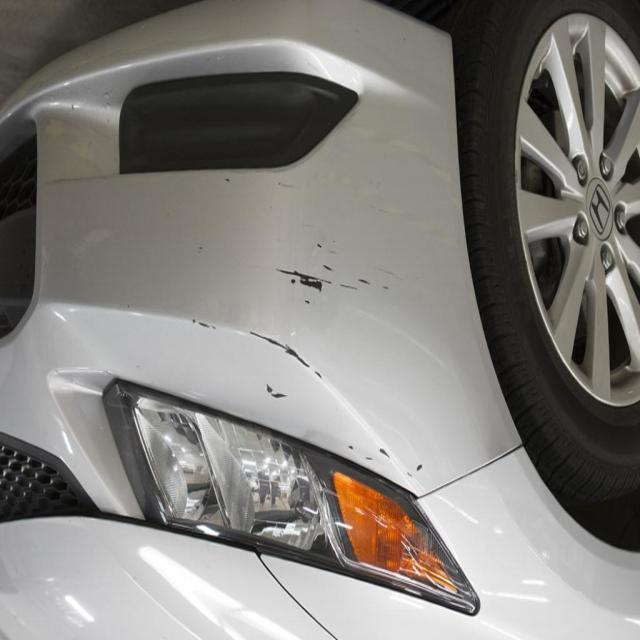scratch: (197, 226, 437, 488)
